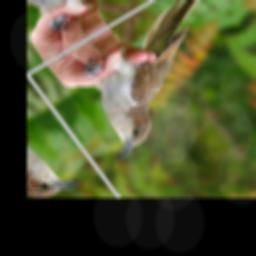Cuckoo: (52, 0, 256, 162)
